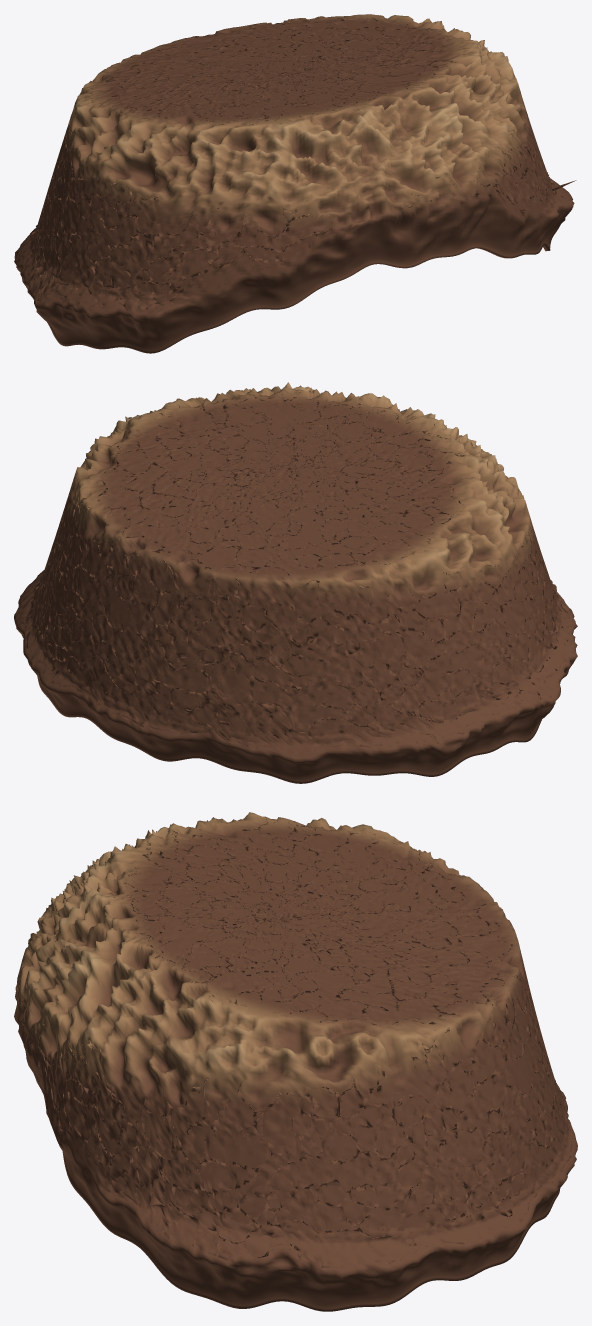
File: Ombre-1712bc200eb3253-hair.glb
3 views of the same model, one above another, from view 1: azimuth 30°, elevation 25°; view 2: azimuth 150°, elevation 25°; view 3: azimuth 270°, elevation 25° (orthographic). The views are drawn at different scales.
Visible parts, largest first — view 1: 226 hair / Hair252 / dense natural coil groups.001; view 2: 226 hair / Hair252 / dense natural coil groups.001; view 3: 226 hair / Hair252 / dense natural coil groups.001.
Boxes of the visible parts, x1=… form: 226 hair / Hair252 / dense natural coil groups.001: x1=14, y1=14, x2=576, y2=353; 226 hair / Hair252 / dense natural coil groups.001: x1=14, y1=382, x2=577, y2=783; 226 hair / Hair252 / dense natural coil groups.001: x1=14, y1=812, x2=577, y2=1311.
Bounding box in the file's own units: 1.05 × 0.4575 × 0.8203.
Materials: 1 (1 with a texture image).
